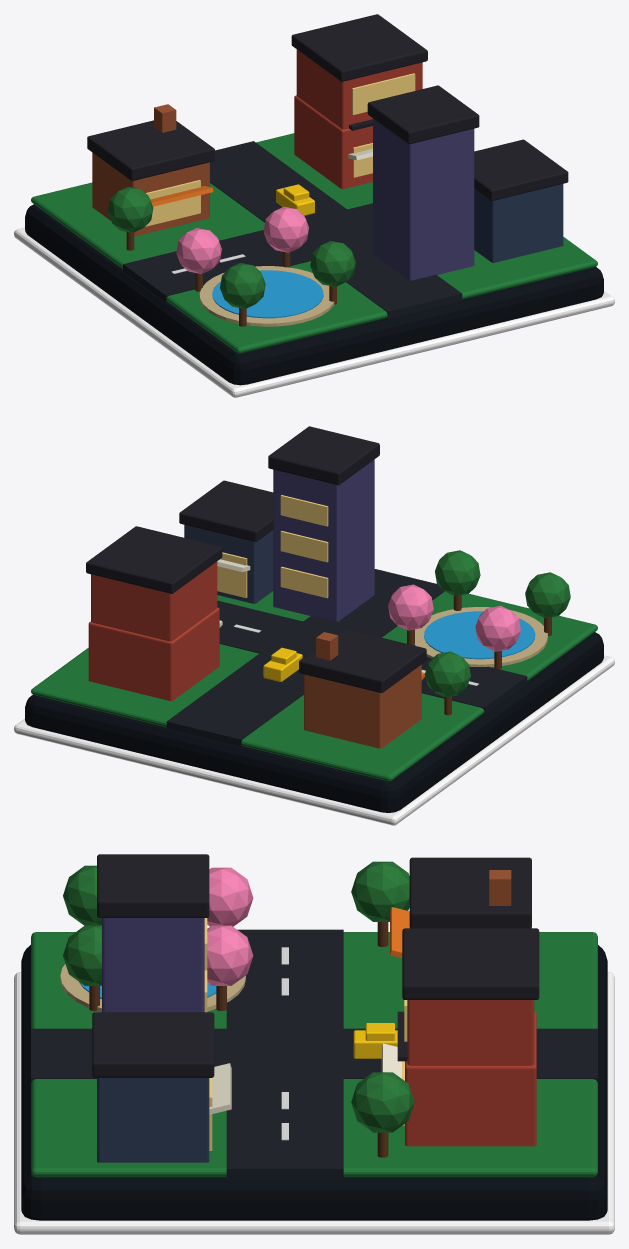
Rendered from money_city.obj.
3 views of the same model, one above another, from view 1: azimuth 30°, elevation 25°; view 2: azimuth 150°, elevation 25°; view 3: azimuth 270°, elevation 25° (orthographic). The views are drawn at different scales.
Visible parts, largest first — view 1: BasePedestal, GrassSurface, Tower_Body, RoadMainV, NeonRim, RoadMainH, Nest_Roof, Boutique_Body, Coffee_Roof, Tower_Roof, Nest_Floor1, Boutique_Roof (+14 smaller); view 2: BasePedestal, GrassSurface, Tower_Body, RoadMainV, Nest_Floor1, NeonRim, Coffee_Body, Nest_Floor2, Nest_Roof, RoadMainH, Coffee_Roof, Tower_Roof (+15 smaller); view 3: GrassSurface, BasePedestal, RoadMainH, RoadMainV, NeonRim, Nest_Floor1, Nest_Roof, Tower_Body, Boutique_Body, Nest_Floor2, Boutique_Roof, Coffee_Roof (+14 smaller).
Boxes of the visible parts, x1,y1,x2,y2 form: BasePedestal: [25, 204, 603, 385]; GrassSurface: [31, 133, 597, 353]; Tower_Body: [373, 118, 474, 280]; RoadMainV: [210, 141, 462, 318]; NeonRim: [14, 227, 614, 397]; RoadMainH: [123, 203, 372, 302]; Nest_Roof: [291, 14, 427, 81]; Boutique_Body: [474, 184, 563, 262]; Coffee_Roof: [87, 120, 214, 180]; Tower_Roof: [367, 85, 479, 144]; Nest_Floor1: [294, 95, 372, 188]; Boutique_Roof: [474, 139, 568, 200]; BasePedestal: [25, 632, 603, 812]; GrassSurface: [31, 591, 597, 781]; Tower_Body: [273, 459, 374, 621]; RoadMainV: [166, 569, 444, 746]; Nest_Floor1: [88, 607, 219, 701]; NeonRim: [14, 655, 614, 825]; Coffee_Body: [304, 664, 421, 748]; Nest_Floor2: [91, 561, 217, 641]; Nest_Roof: [86, 526, 222, 593]; RoadMainH: [217, 600, 527, 714]; Coffee_Roof: [299, 628, 426, 692]; Tower_Roof: [268, 426, 379, 485]; GrassSurface: [31, 932, 597, 1177]; BasePedestal: [21, 945, 607, 1220]; RoadMainH: [226, 929, 343, 1178]; RoadMainV: [31, 1028, 597, 1082]; NeonRim: [14, 972, 614, 1234]; Nest_Floor1: [405, 1012, 536, 1146]; Nest_Roof: [402, 928, 539, 999]; Tower_Body: [102, 918, 204, 1012]; Boutique_Body: [97, 1078, 209, 1162]; Nest_Floor2: [407, 1000, 534, 1065]; Boutique_Roof: [92, 1012, 214, 1077]; Coffee_Roof: [409, 857, 531, 928].
Bounding box in the file's own units: 12.3 × 6.05 × 12.3.
